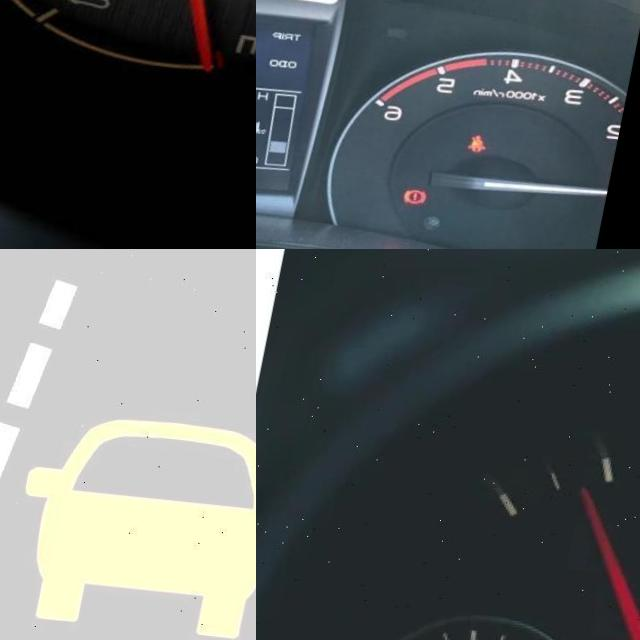Seat Belt: (482, 122, 501, 143)
